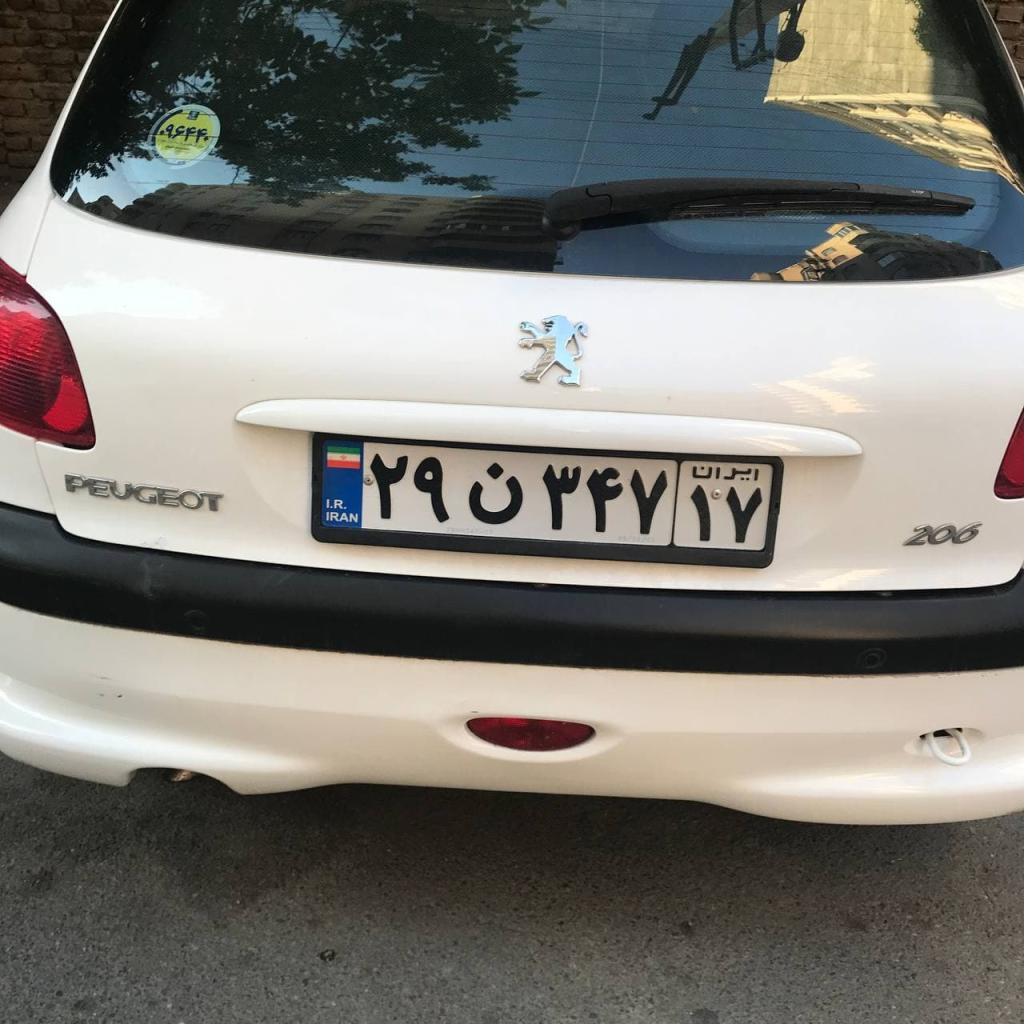Plates: (320, 438, 775, 549)
